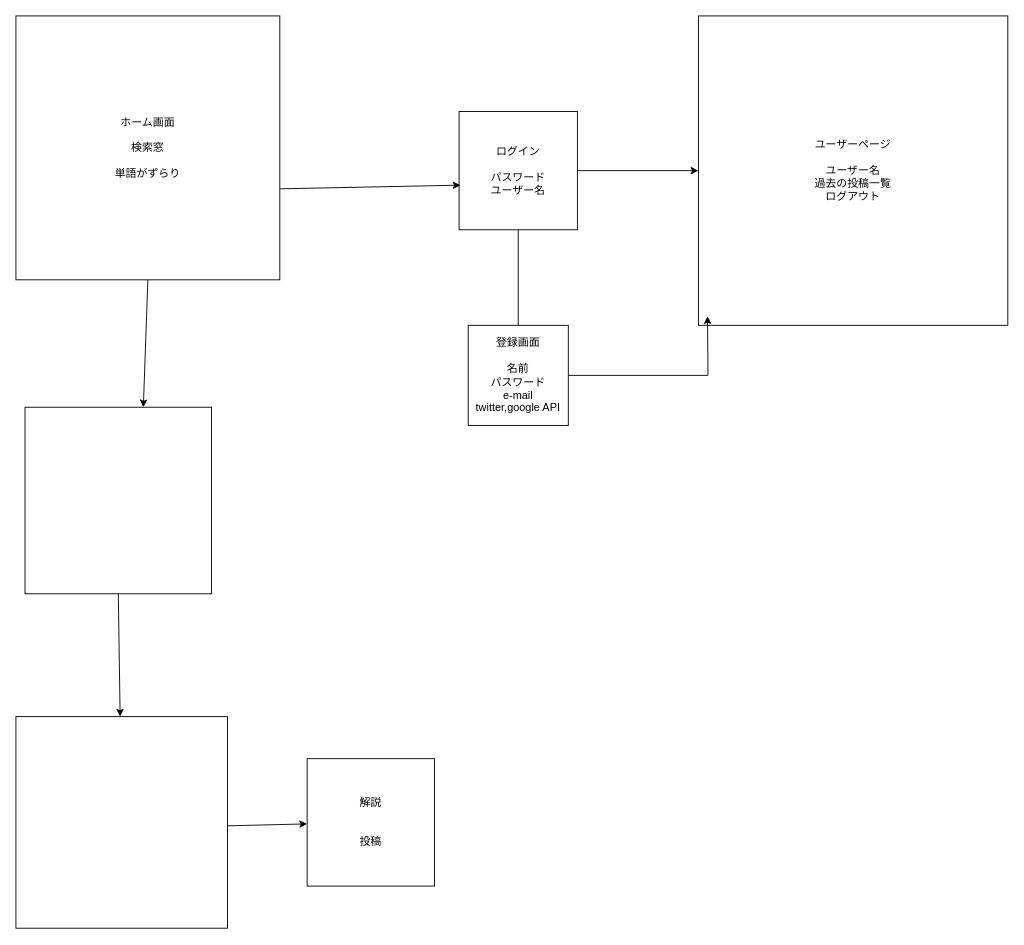
The diagram is 1024 pixels wide and 945 high, and some of its shapes have lost their labels. Here are the shapes that lost their labels. From the top down, the centre of each, then its label:
At [118,500]: "単語 解説 解説 解説".
At [121,822]: "単語の解説 書き込むアイコン".
